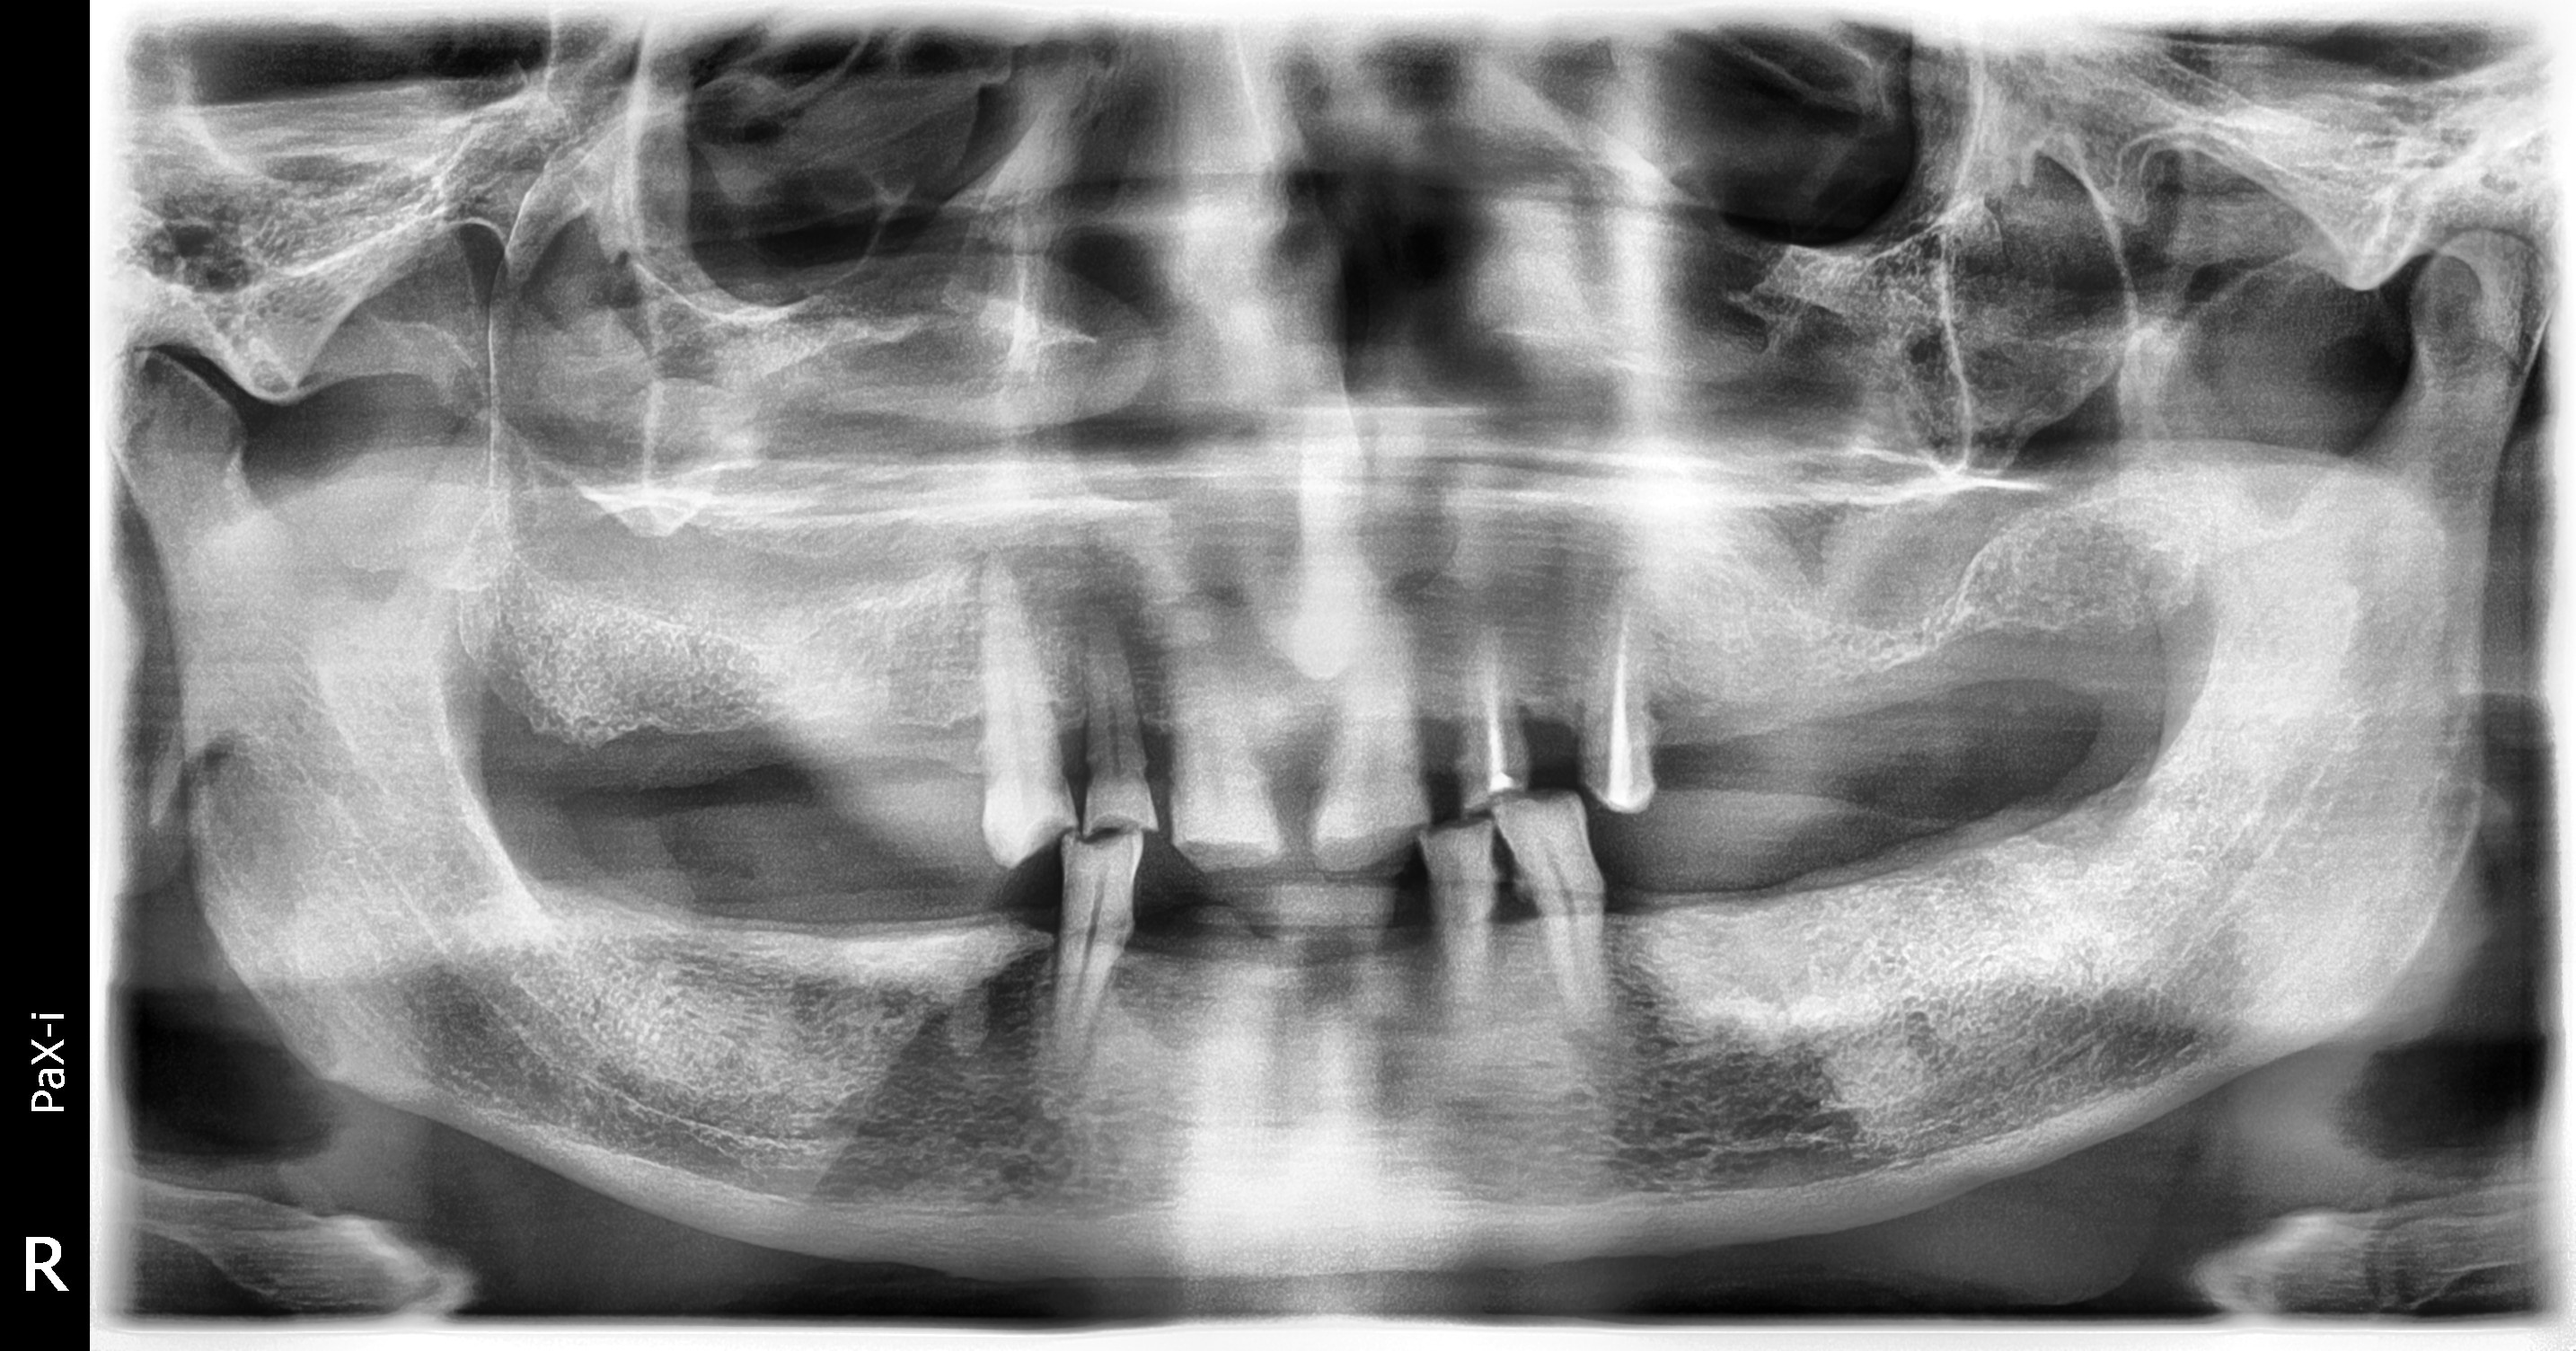BON: (1225, 687, 1358, 816), (918, 692, 1015, 814), (1498, 690, 1603, 789), (1368, 879, 1448, 990), (1119, 692, 1187, 809), (1043, 697, 1113, 809), (1588, 847, 1665, 946), (1104, 900, 1194, 983), (1395, 690, 1470, 790), (1469, 874, 1547, 968), (1000, 876, 1070, 966)
END: (1595, 589, 1647, 819), (1462, 627, 1527, 790)
